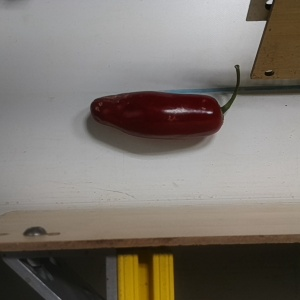Cut Point: (204, 94, 232, 135)
